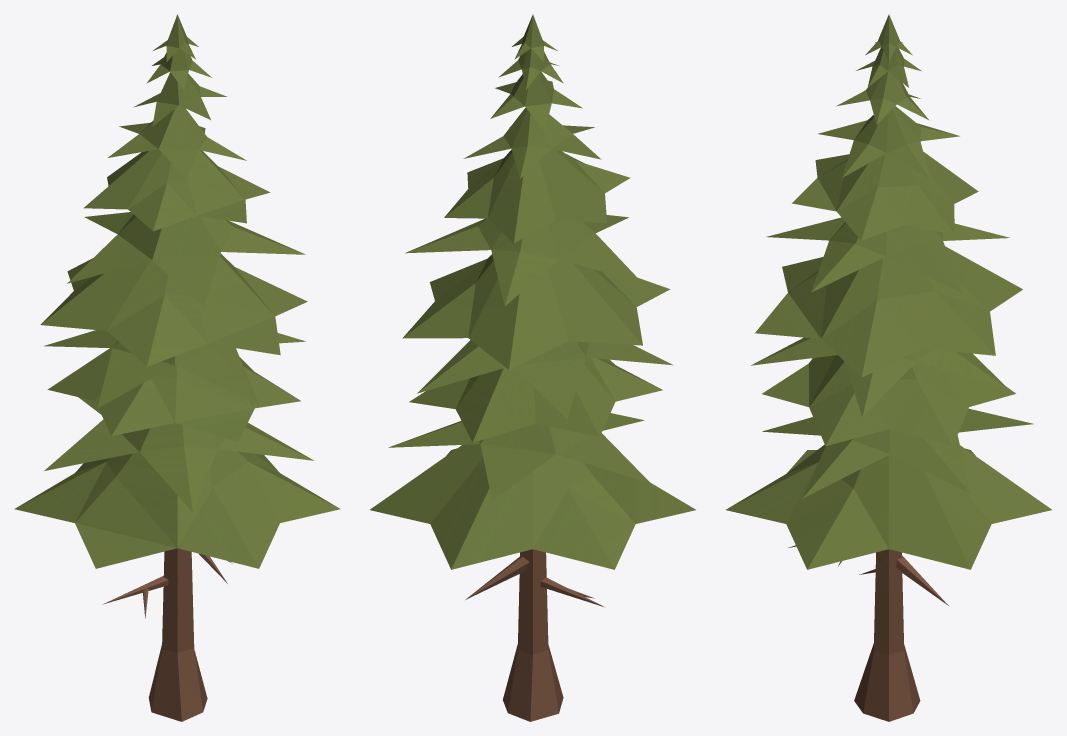
The model's file is Tree_4_LOD1.fbx.
3 renders of one model, left to right at view 1: azimuth 30°, elevation 25°; view 2: azimuth 150°, elevation 25°; view 3: azimuth 270°, elevation 25°, orthographic.
Visible parts, largest first — view 1: polySurface10607; view 2: polySurface10607; view 3: polySurface10607.
Boxes of the visible parts, <box> form: polySurface10607: <box>14,14,340,721</box>; polySurface10607: <box>370,14,695,721</box>; polySurface10607: <box>726,14,1051,721</box>.
Bounding box in the file's own units: 320 × 852 × 365.
